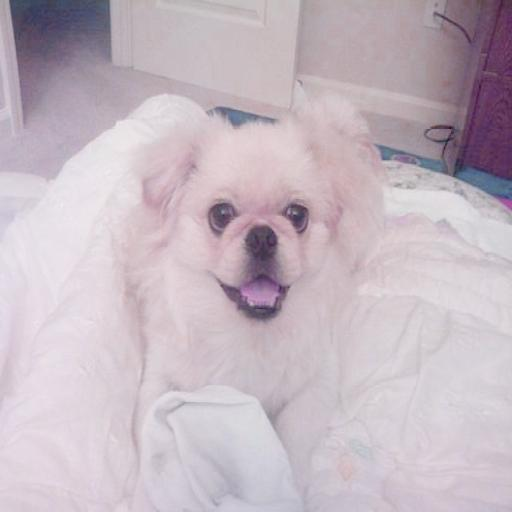dog_face: (140, 102, 377, 323)
